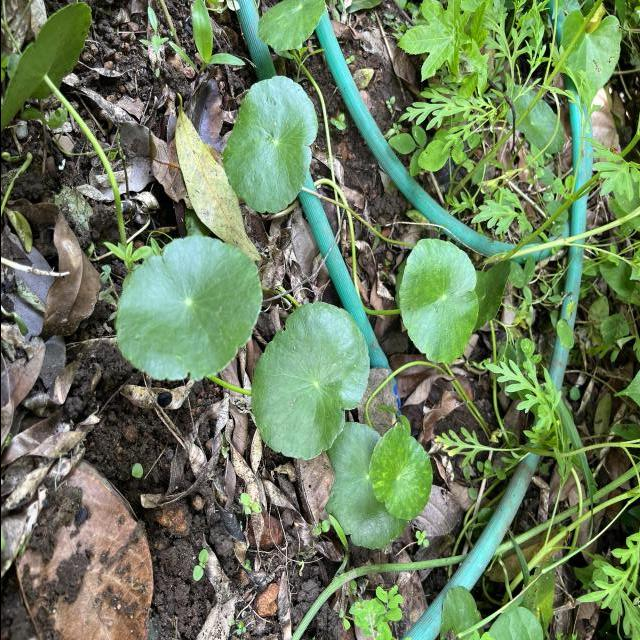Bacopa monnieri: (113, 234, 264, 383), (248, 300, 372, 462), (220, 74, 320, 214), (396, 236, 480, 367), (366, 426, 434, 522), (254, 0, 326, 53)
